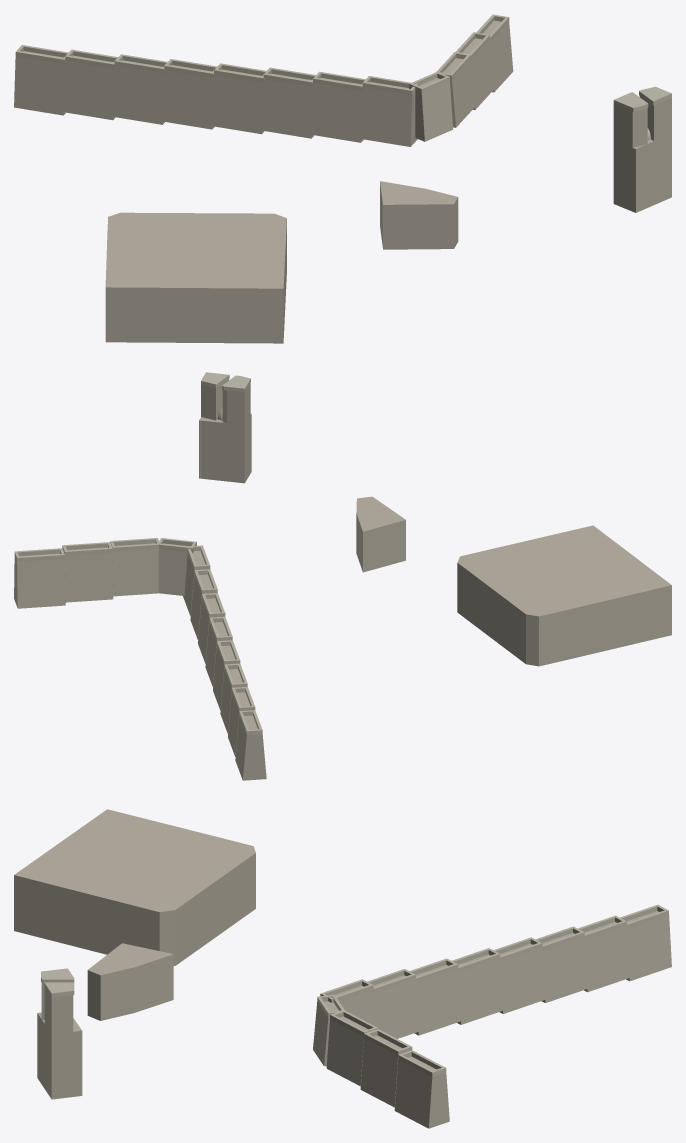
The model's file is bormla_64_28_collision.glb.
3 renders of one model, top to bottom at view 1: azimuth 30°, elevation 25°; view 2: azimuth 150°, elevation 25°; view 3: azimuth 270°, elevation 25°, orthographic. The views are drawn at different scales.
Visible parts, largest first — view 1: geometry_0; view 2: geometry_0; view 3: geometry_0.
Part boxes in pixels (bbox=[...]): geometry_0: bbox=[14, 14, 671, 343]; geometry_0: bbox=[14, 372, 671, 780]; geometry_0: bbox=[14, 809, 671, 1128].
Size of the model in its own units: 148 by 35.44 by 146.
